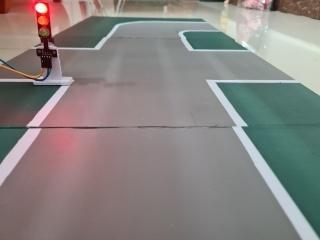red: (30, 0, 58, 57)
